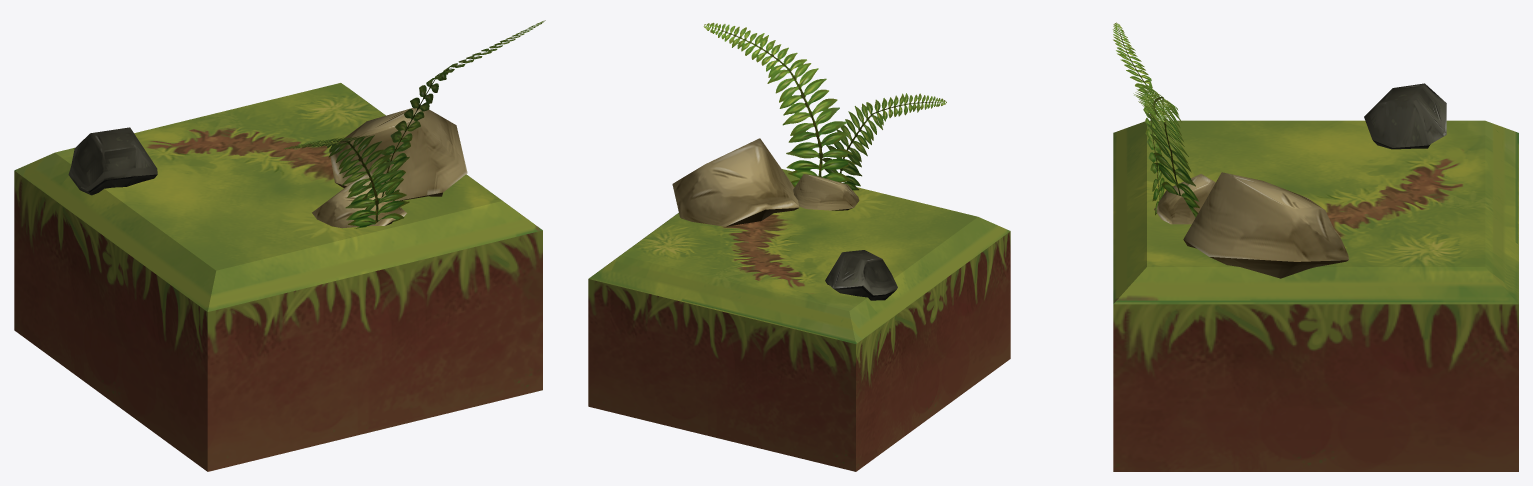
File: tile_final1.FBX
3 renders of one model, left to right at view 1: azimuth 30°, elevation 25°; view 2: azimuth 150°, elevation 25°; view 3: azimuth 270°, elevation 25°, orthographic. The views are drawn at different scales.
Visible parts, largest first — view 1: Prefab1; view 2: Prefab1; view 3: Prefab1.
Boxes of the visible parts, x1=… form: Prefab1: x1=14, y1=20, x2=545, y2=471; Prefab1: x1=588, y1=22, x2=1010, y2=471; Prefab1: x1=1112, y1=22, x2=1518, y2=471.
Bounding box in the file's own units: 27.76 × 25.42 × 29.52.
Materials: 2 (2 with a texture image).
